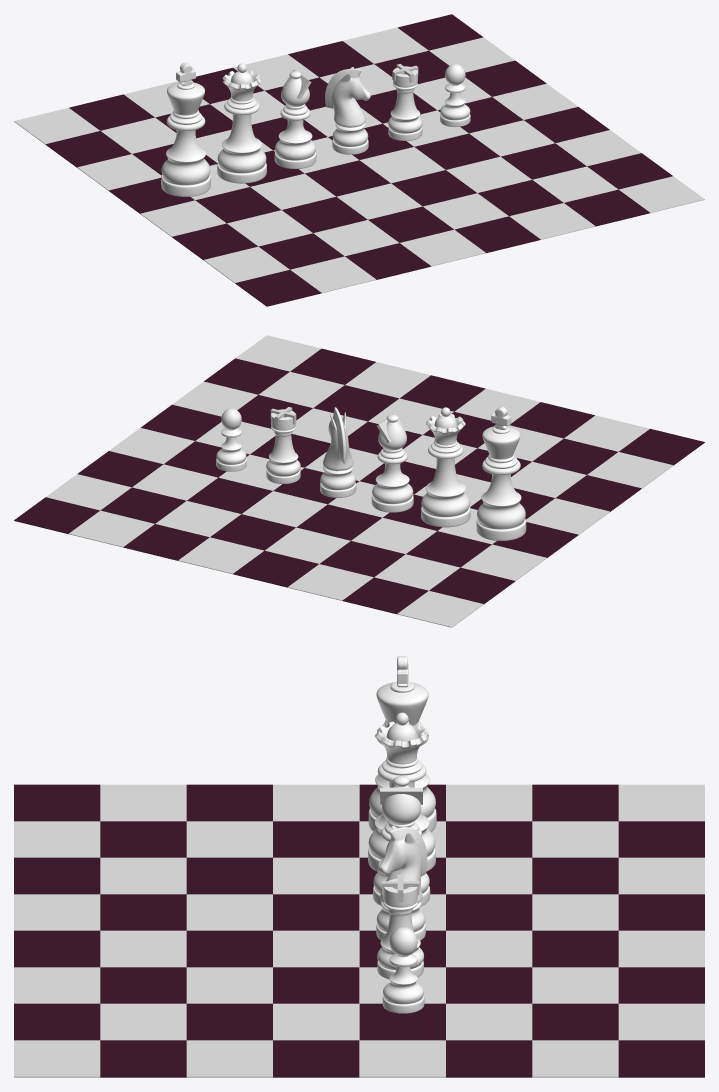
3 views of the same model, one above another, from view 1: azimuth 30°, elevation 25°; view 2: azimuth 150°, elevation 25°; view 3: azimuth 270°, elevation 25° (orthographic). The views are drawn at different scales.
Visible parts, largest first — view 1: Board, King, Queen, Bishop, Plane.009, Rook, Pawn, Knight, Circle.004; view 2: Board, King, Queen, Bishop, Rook, Pawn, Plane.009, Knight, Circle.004; view 3: Board, King, Pawn, Plane.009, Queen, Rook, Bishop, Circle.004, Knight.
Part boxes in pixels (x1=…): Board: x1=14, y1=14, x2=704, y2=306; King: x1=161, y1=82, x2=210, y2=196; Queen: x1=217, y1=97, x2=266, y2=183; Bishop: x1=274, y1=71, x2=316, y2=168; Plane.009: x1=325, y1=67, x2=370, y2=127; Rook: x1=388, y1=66, x2=422, y2=140; Pawn: x1=440, y1=63, x2=470, y2=127; Knight: x1=332, y1=123, x2=368, y2=154; Circle.004: x1=222, y1=63, x2=261, y2=101; Board: x1=14, y1=335, x2=704, y2=627; King: x1=476, y1=426, x2=526, y2=540; Queen: x1=421, y1=440, x2=470, y2=527; Bishop: x1=371, y1=414, x2=413, y2=512; Rook: x1=266, y1=409, x2=300, y2=483; Pawn: x1=216, y1=408, x2=246, y2=471; Plane.009: x1=323, y1=407, x2=353, y2=471; Knight: x1=320, y1=466, x2=356, y2=497; Circle.004: x1=426, y1=407, x2=465, y2=445; Board: x1=14, y1=784, x2=704, y2=1077; King: x1=368, y1=681, x2=436, y2=831; Pawn: x1=382, y1=927, x2=424, y2=1013; Plane.009: x1=378, y1=826, x2=427, y2=903; Queen: x1=368, y1=758, x2=435, y2=871; Rook: x1=377, y1=878, x2=423, y2=979; Bishop: x1=373, y1=775, x2=430, y2=906; Circle.004: x1=375, y1=712, x2=428, y2=764; Knight: x1=376, y1=901, x2=425, y2=940.
Bounding box in the file's own units: 8 × 2.16 × 8.
